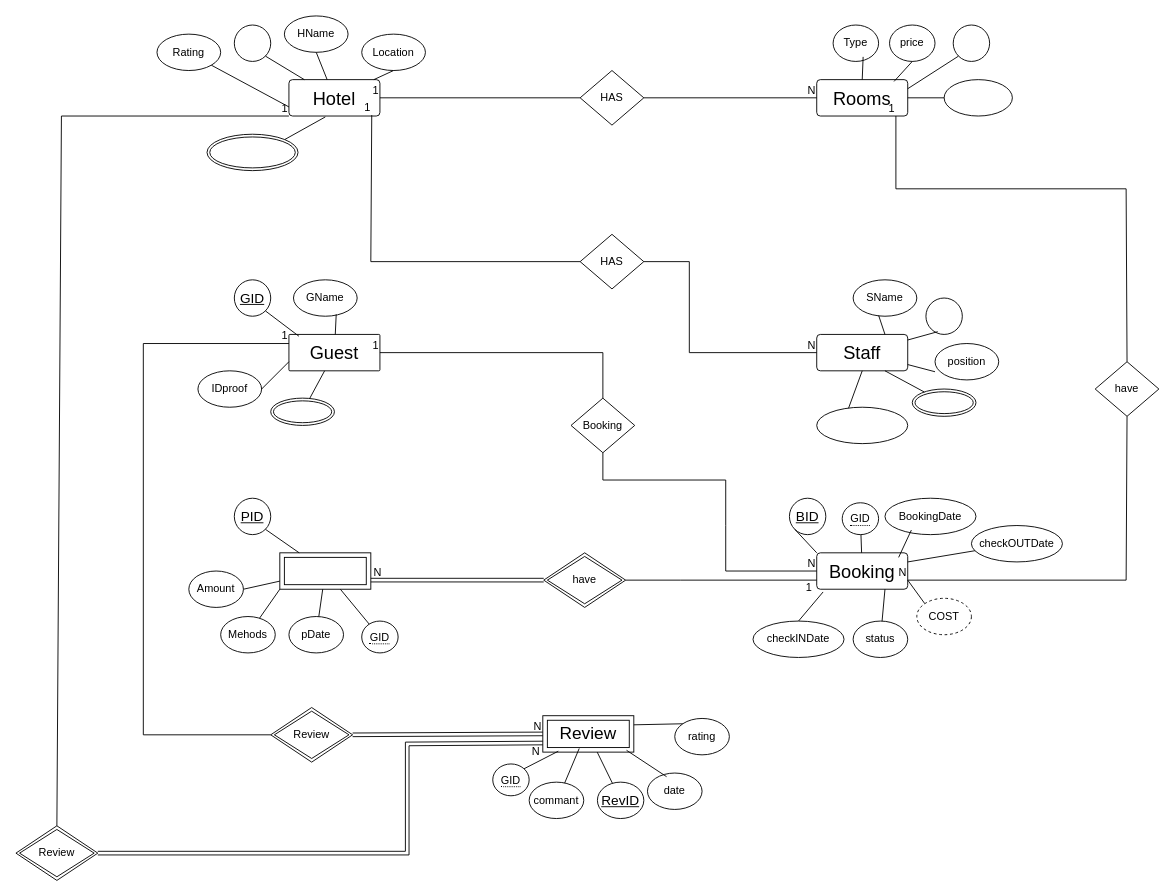
Some shapes in this 1175 by 896 pixel diagram are drawn without their labels. The centre of each missing label's shape, as x and y in pixels:
availability: pixel 977 97
contact_num: pixel 252 152
GPhone: pixel 302 411
HID: pixel 252 42
payment: pixel 325 570
RID: pixel 971 42
SID: pixel 943 315
SPhone: pixel 943 402
work_at_specific: pixel 862 425
